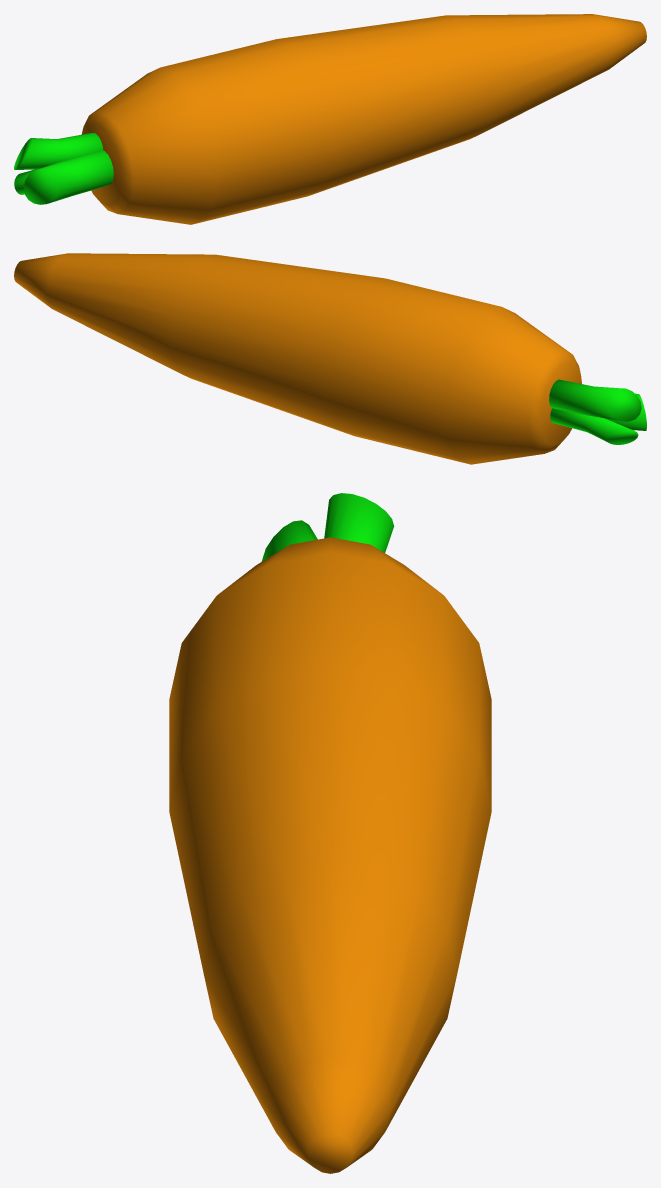
The model's file is tmp_carrot.fbx.
3 renders of one model, top to bottom at view 1: azimuth 30°, elevation 25°; view 2: azimuth 150°, elevation 25°; view 3: azimuth 270°, elevation 25°, orthographic. The views are drawn at different scales.
Visible parts, largest first — view 1: Cylinder.002; view 2: Cylinder.002; view 3: Cylinder.002.
Boxes of the visible parts, x1,y1,x2,y2 form: Cylinder.002: (14,14,646,224); Cylinder.002: (14,253,646,464); Cylinder.002: (169,493,491,1173).
Size of the model in its own units: 20.92 by 4.69 by 4.69.
